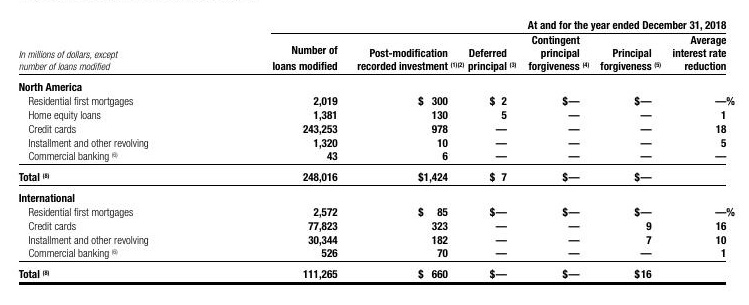table: (0, 0, 749, 305)
